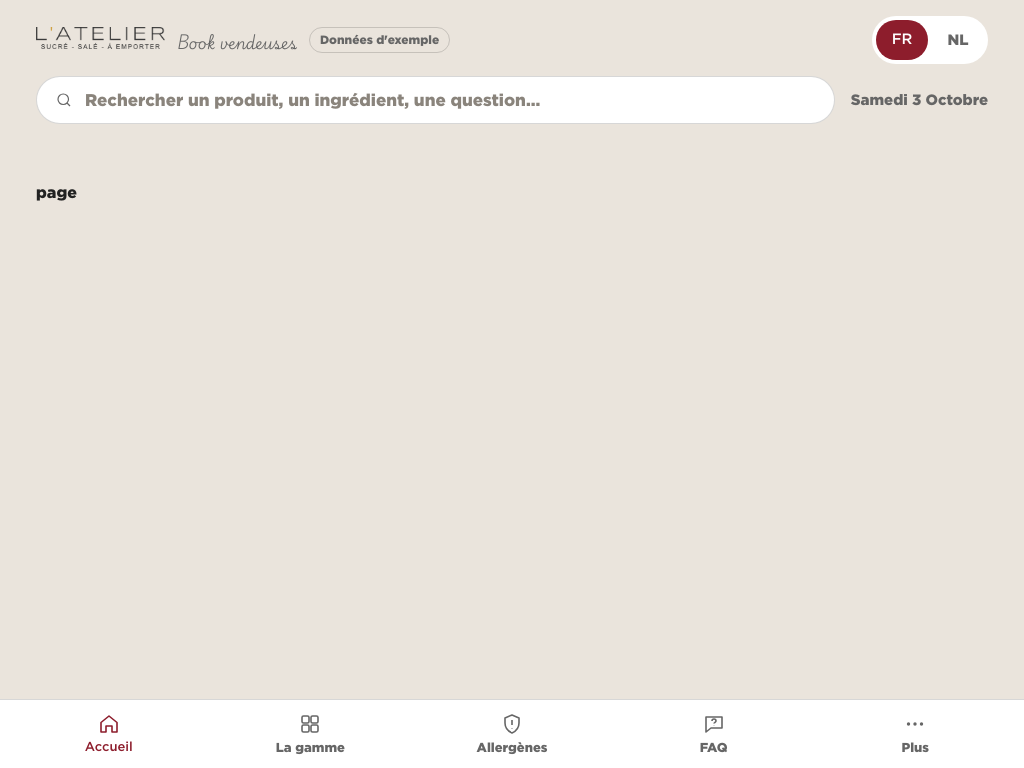
Test case: AppShell — landscape (≥ 1000 px) › "Effacer" from the keyboard clears the query and keeps the focus in the field
Expected: the button "Effacer" is not shown
Type "pain" into the field. click: (449,100)
box: [83,89,816,111]
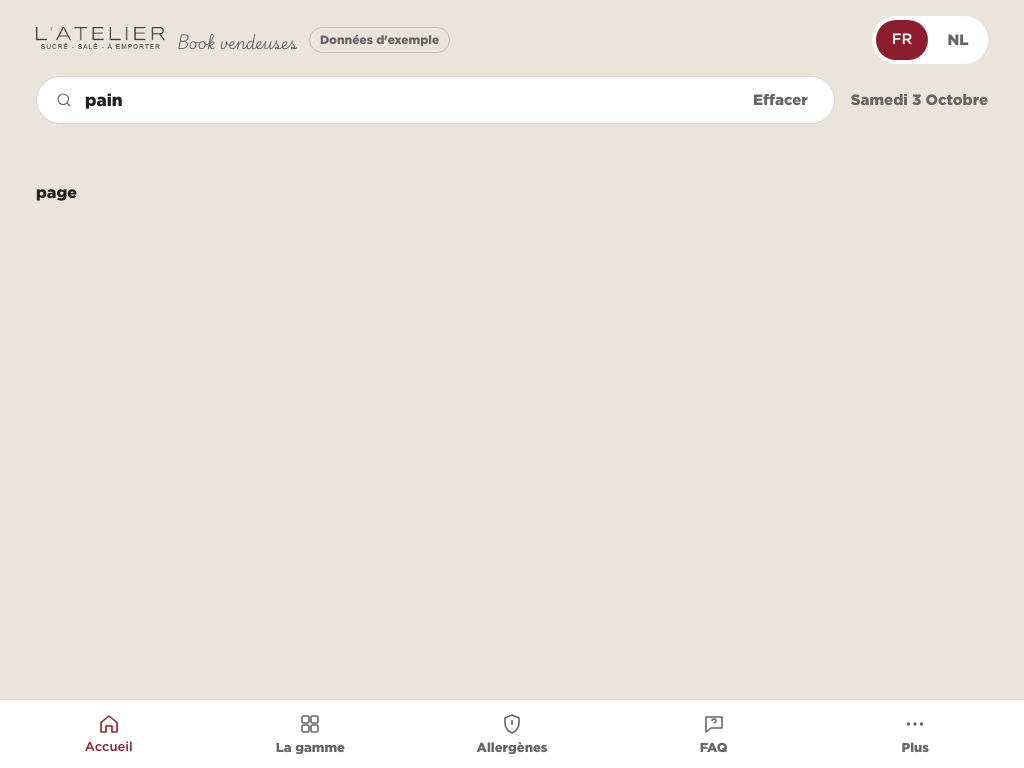
Click the button "Effacer". click: (780,100)
box: [745,78,816,122]
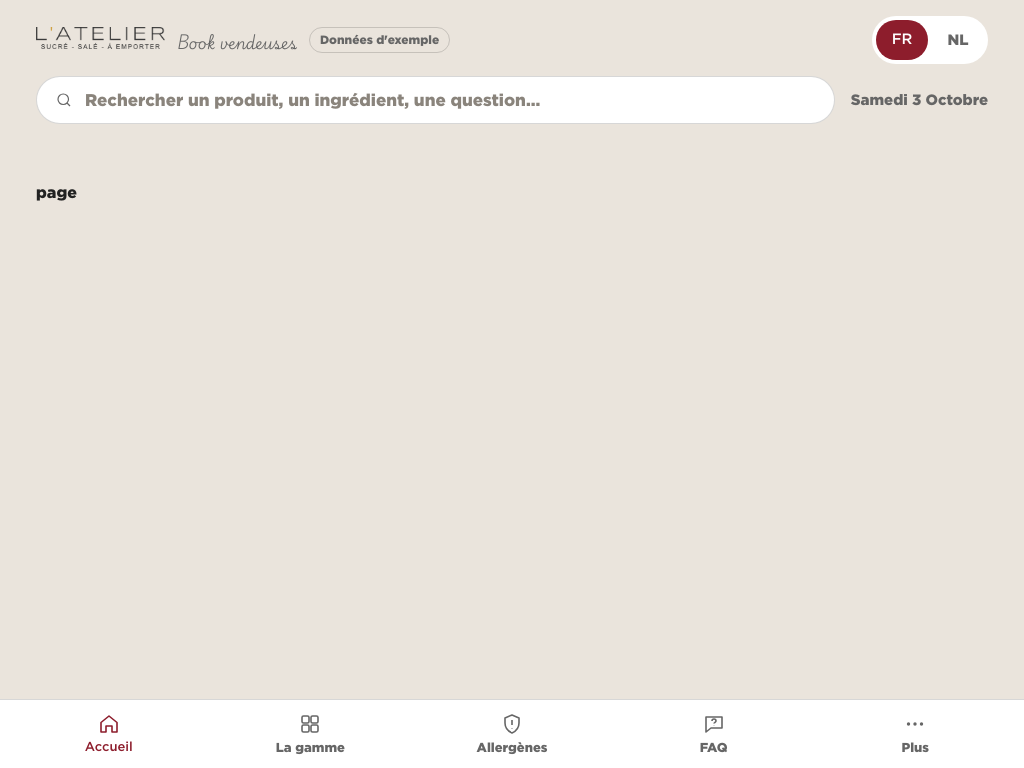
Now the button "Effacer" is gone
